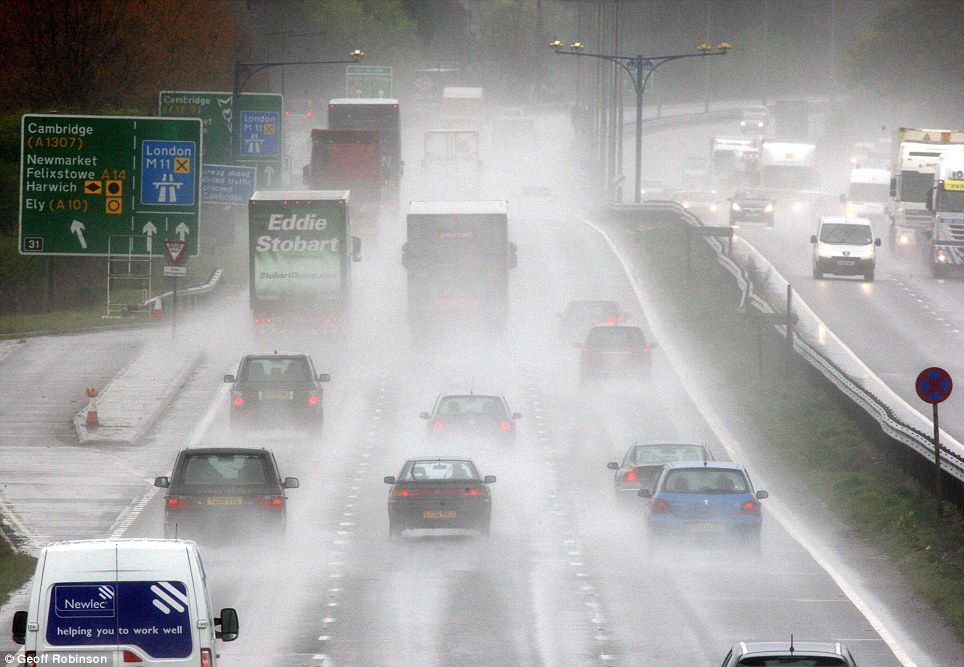car: (13, 537, 238, 664), (159, 445, 291, 547), (383, 454, 494, 542), (643, 462, 762, 537), (228, 350, 325, 425), (423, 393, 517, 465), (576, 324, 658, 390), (610, 443, 709, 497), (810, 216, 878, 280), (553, 295, 629, 343), (729, 186, 775, 225), (514, 186, 562, 216), (793, 187, 832, 219), (683, 185, 719, 217), (283, 90, 311, 126), (637, 175, 667, 202)
truck: (401, 195, 518, 373), (246, 184, 361, 348), (303, 127, 381, 270), (327, 100, 398, 247), (891, 127, 928, 264), (423, 128, 482, 210), (760, 139, 815, 219), (494, 112, 541, 199), (931, 152, 963, 279), (848, 167, 894, 244), (712, 137, 753, 206), (445, 85, 482, 154)
